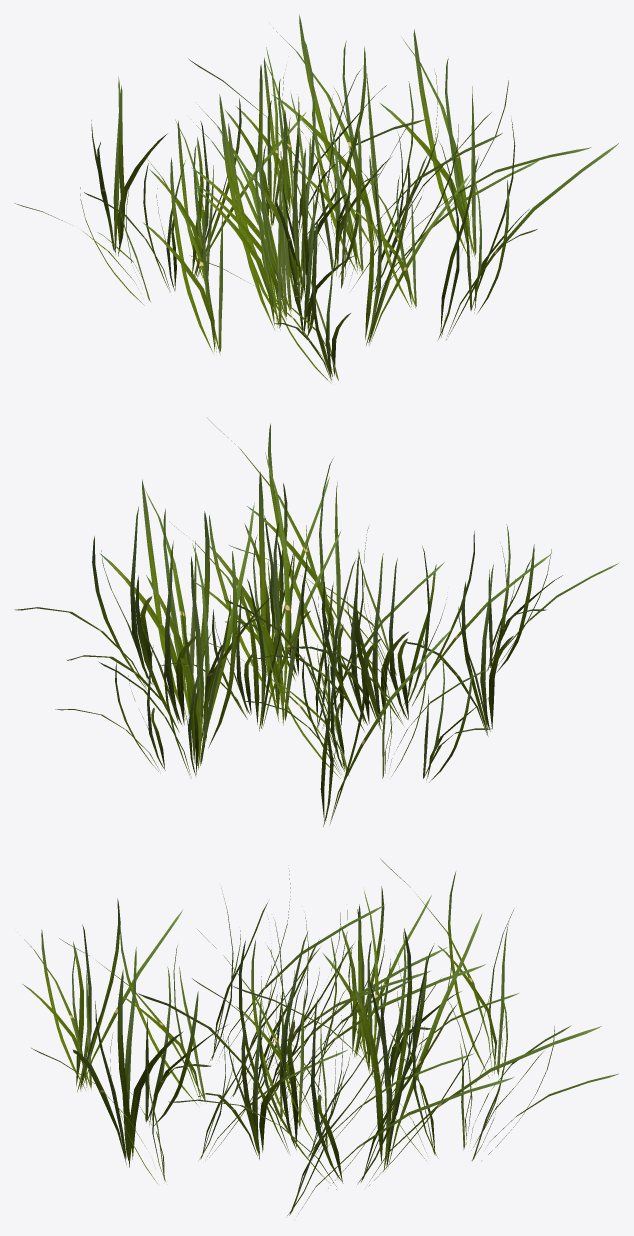
The model's file is Detailed Grass 06 Variant 3.fbx.
3 renders of one model, top to bottom at view 1: azimuth 30°, elevation 25°; view 2: azimuth 150°, elevation 25°; view 3: azimuth 270°, elevation 25°, orthographic. The views are drawn at different scales.
Parts seen in each view (by area): view 1: detailed_grass_06_3_LOD0; view 2: detailed_grass_06_3_LOD0; view 3: detailed_grass_06_3_LOD0.
Part boxes in pixels (x1,y1,x2,y2): detailed_grass_06_3_LOD0: [15, 14, 618, 382]; detailed_grass_06_3_LOD0: [14, 418, 619, 826]; detailed_grass_06_3_LOD0: [17, 858, 618, 1217].
Size of what is drawn, in the model's own units: 235 by 108 by 247.
1 material, 1 textured.
